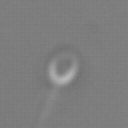normal: (25, 86, 58, 128)
